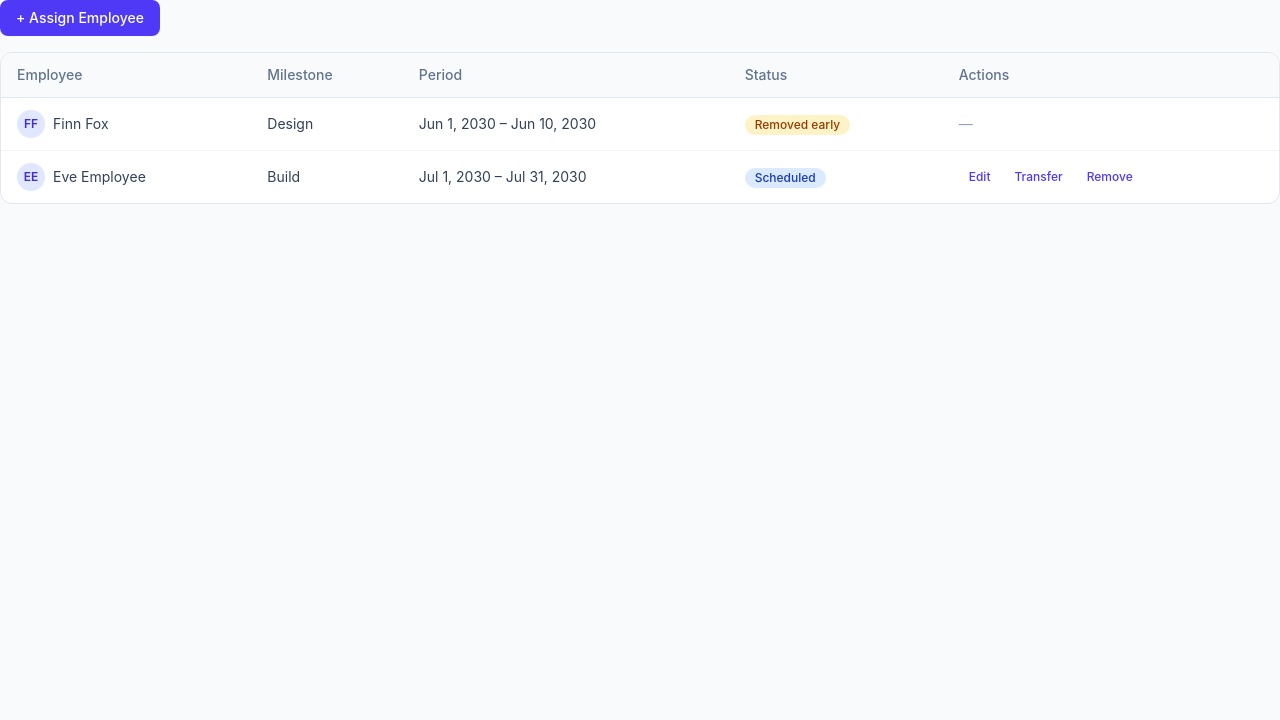
Test case: EmployeesTab › assigning an employee › updates dates and availability when another milestone is chosen
The width and height of the screenshot is (1280, 720).
Click the button "+ Assign Employee". click: x=80, y=18
box: x1=0 y1=0 x2=160 y2=36
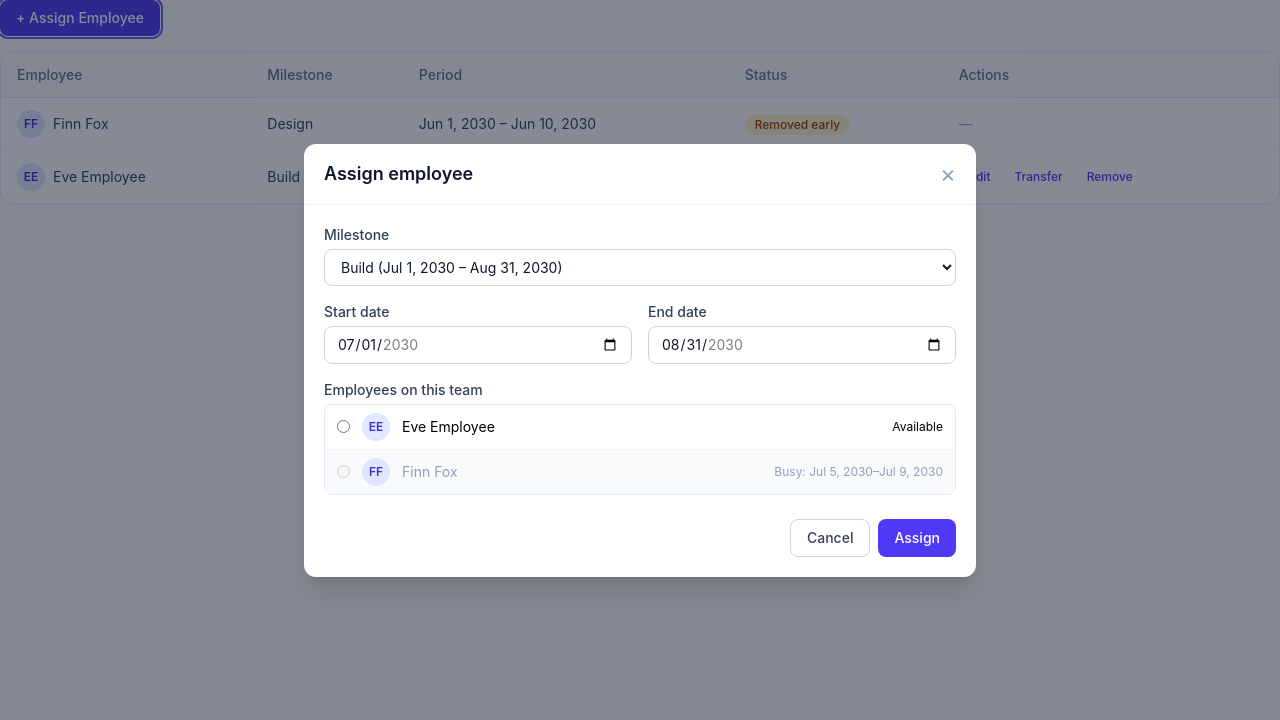
Result: the radio button labelled "EE Eve Employee Available" is shown at x1=337 y1=420 x2=350 y2=433
Select "Launch (Sep 1, 2030 – Sep 15, 2030)" in the dropdown labelled "Milestone". click: x=640, y=267
box: x1=324 y1=248 x2=956 y2=286
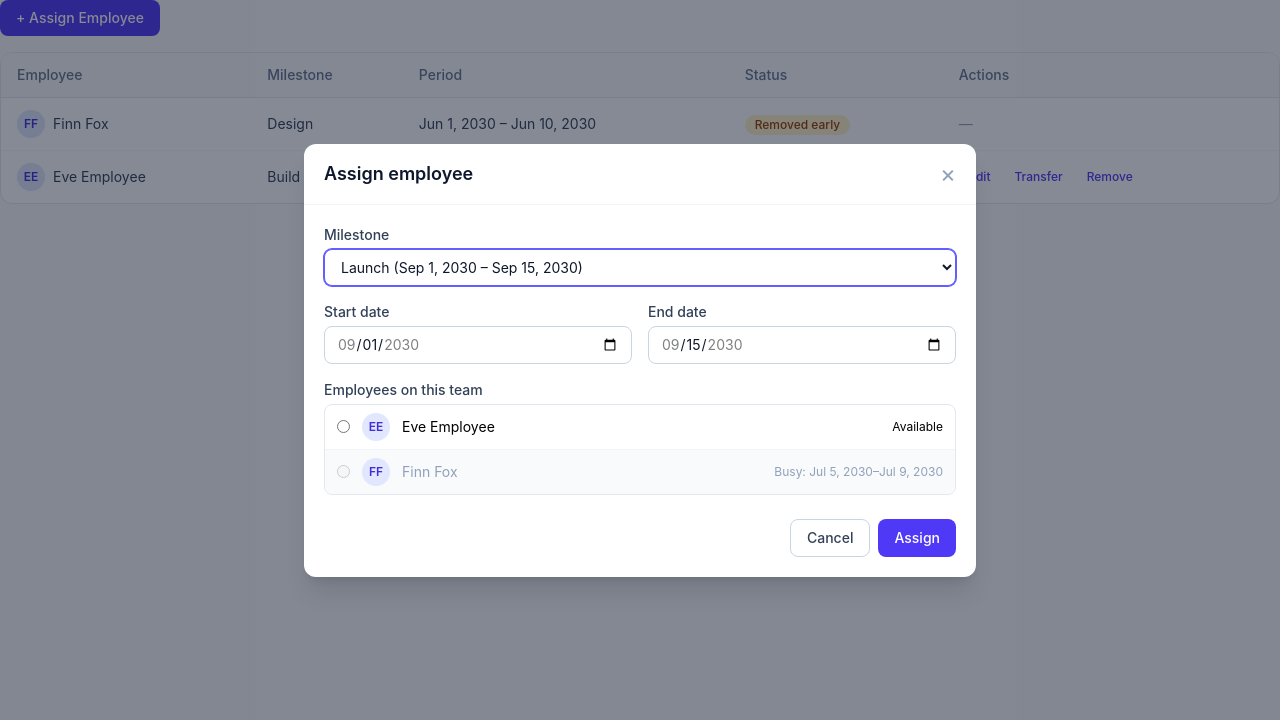
Result: the date field labelled "Start date" holds "2030-09-01" at x1=324 y1=326 x2=632 y2=364
Result: the date field labelled "End date" holds "2030-09-15" at x1=648 y1=326 x2=956 y2=364
